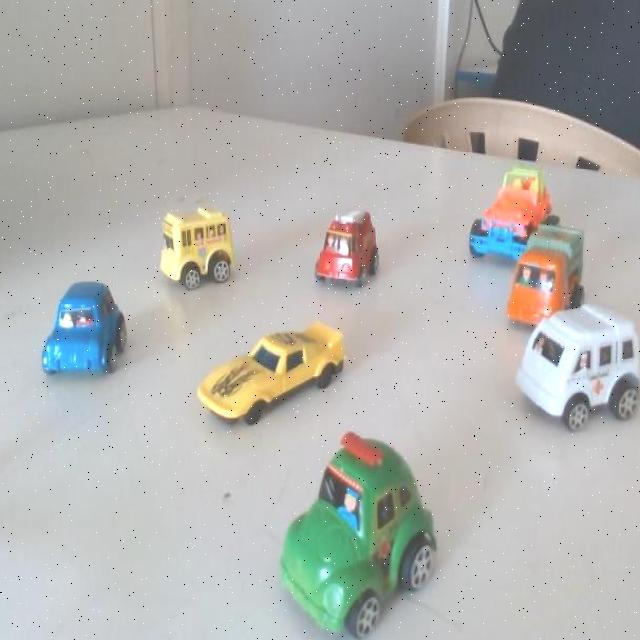car: (268, 434, 438, 638), (502, 284, 640, 456), (204, 311, 341, 438), (155, 203, 243, 304), (314, 197, 389, 306), (511, 215, 579, 334), (40, 281, 117, 383), (462, 163, 540, 263)
